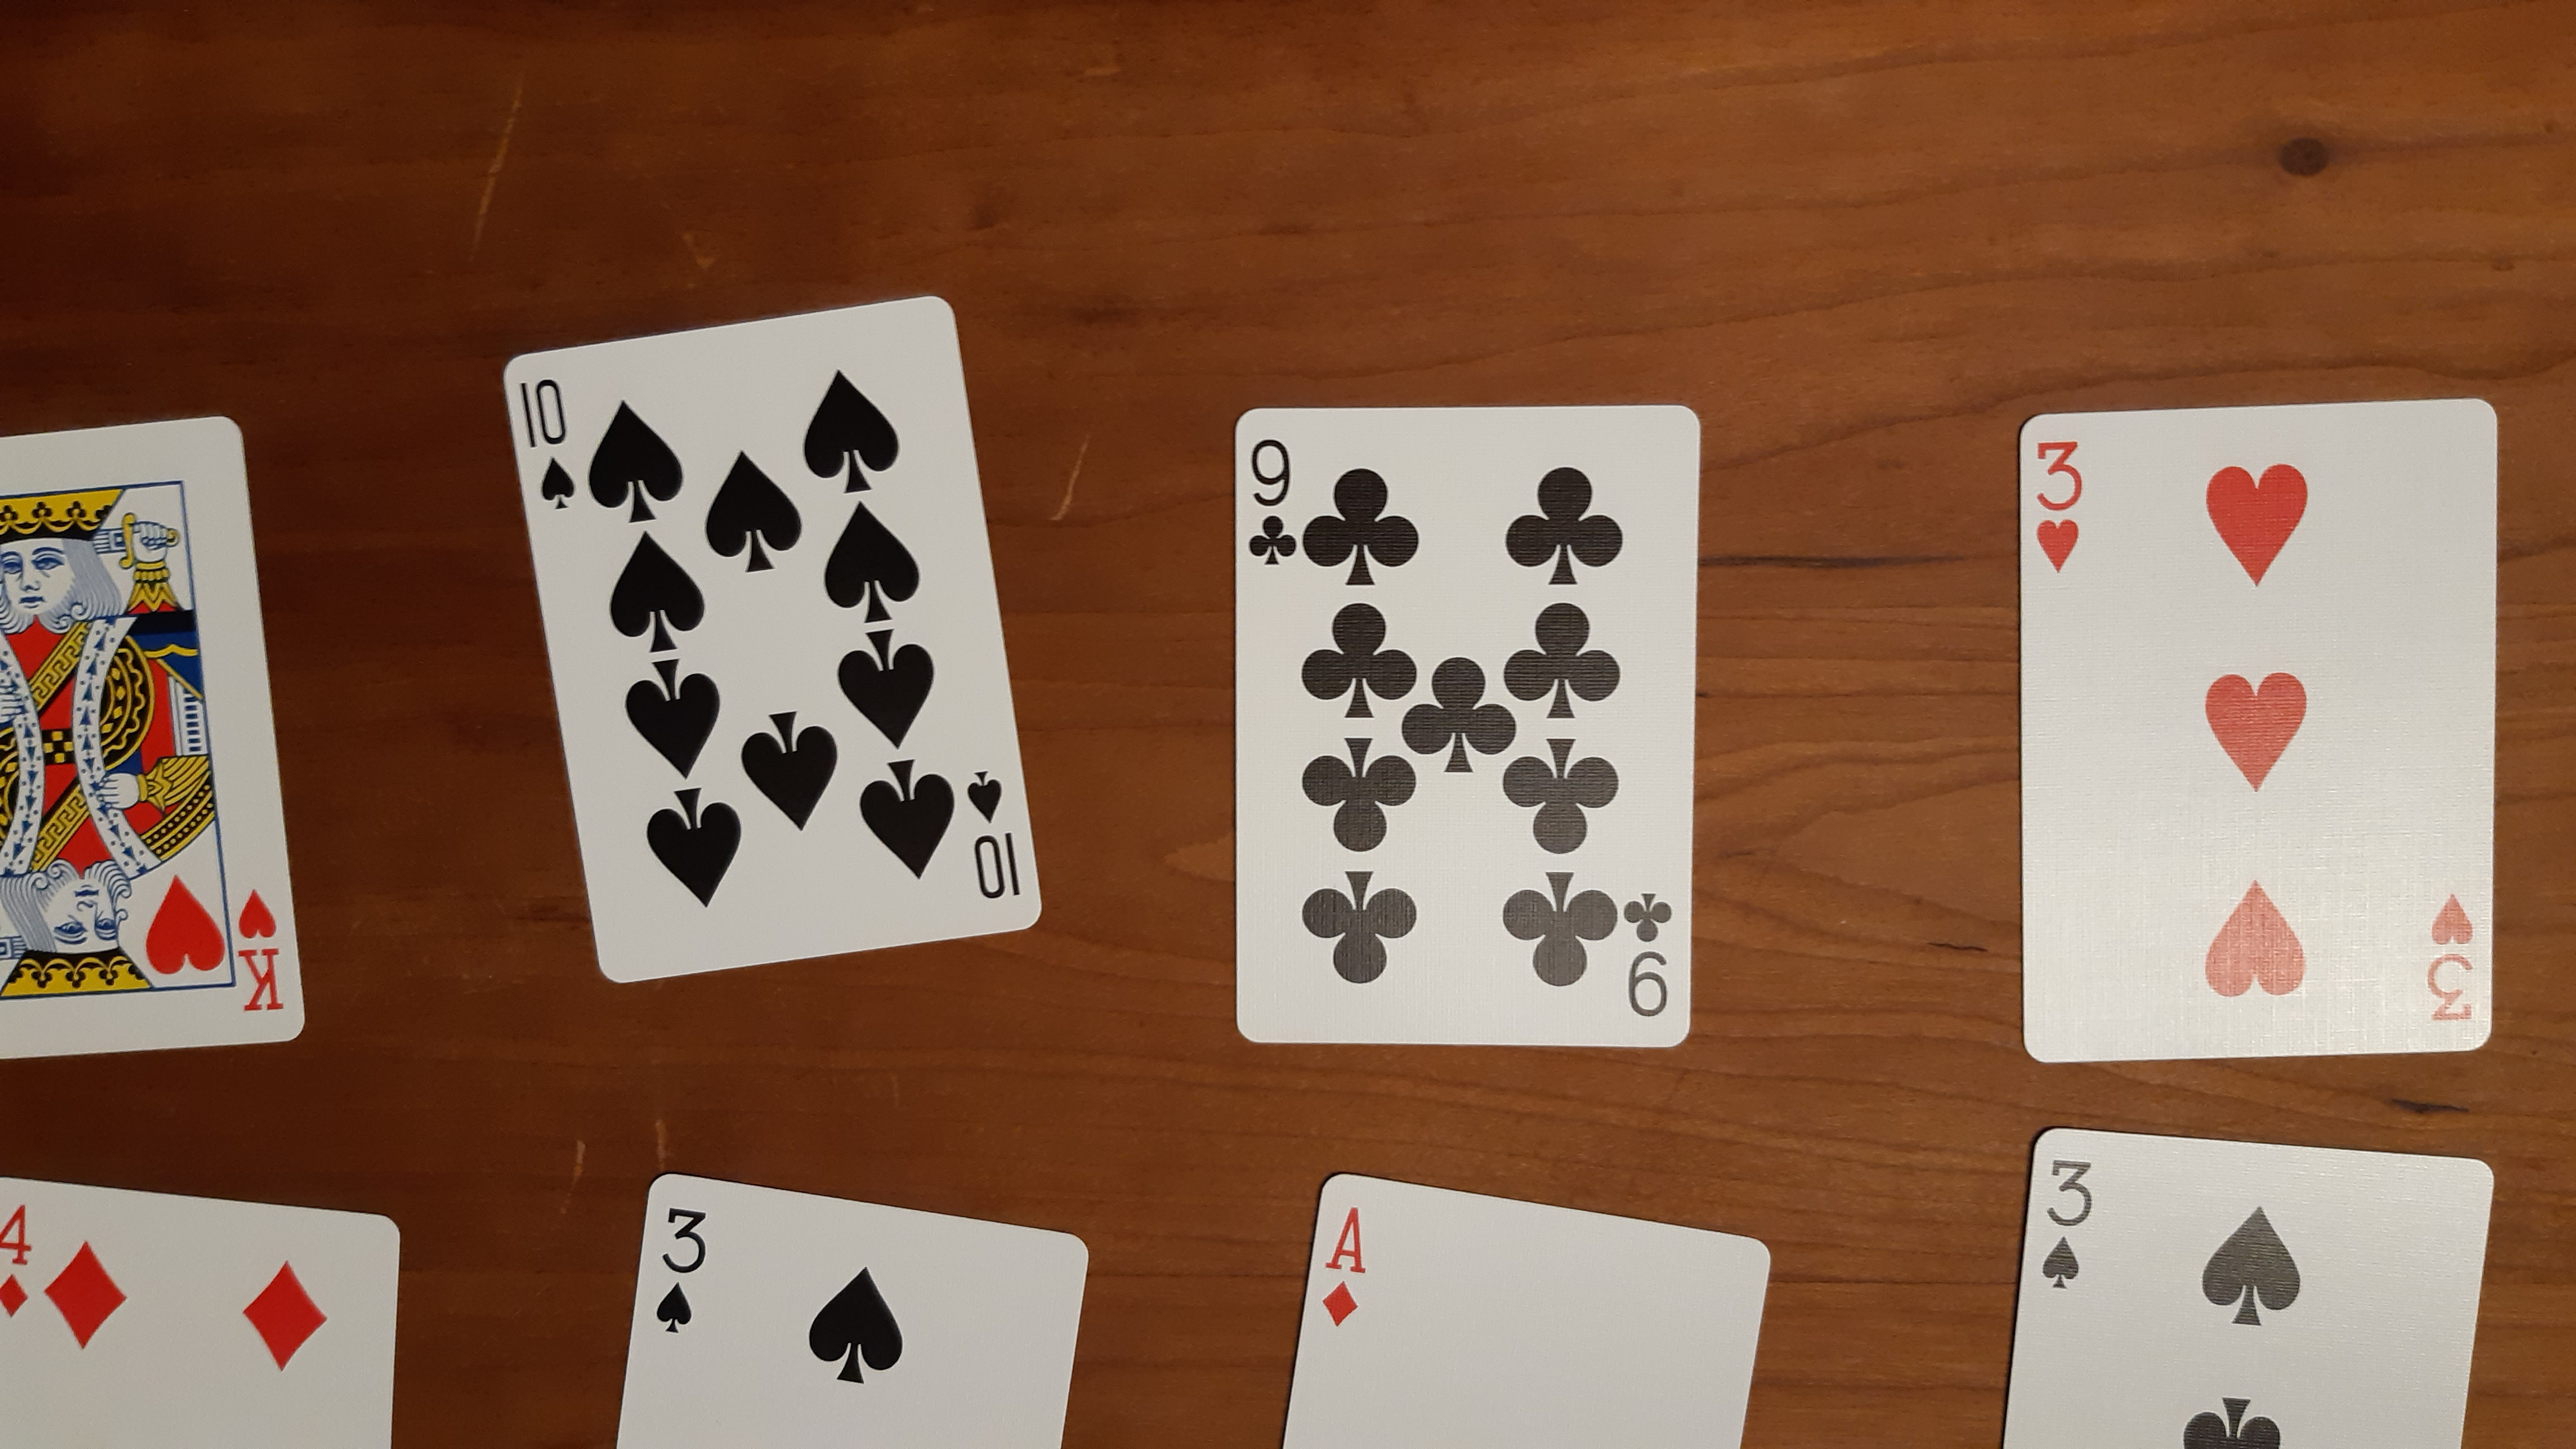Black_Club_9: (1251, 432, 1672, 1028)
Black_Spade_10: (962, 754, 1026, 922), (511, 373, 584, 515)
Black_Spade_3: (642, 1200, 706, 1336), (2038, 1152, 2091, 1295)
Red_Diamond_4: (2, 1196, 42, 1320)
Red_Diamond_Ace: (1316, 1196, 1364, 1330)
Red_Heart_3: (2033, 432, 2091, 582), (2424, 888, 2484, 1030)
Red_Heart_King: (234, 885, 290, 1021)
